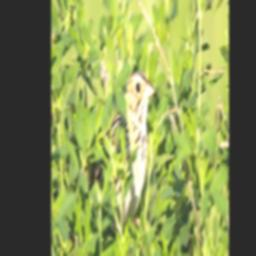Sparrow: (85, 68, 157, 243)
